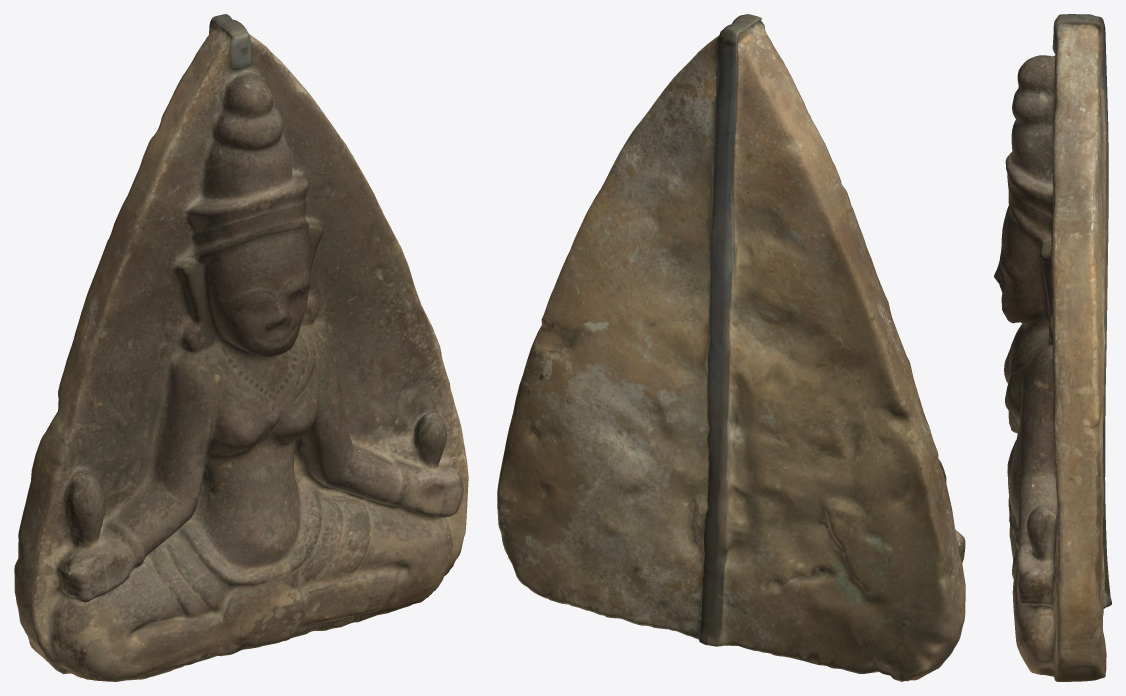
The model's file is 27_laskmi_final.glb.
3 views of the same model, side by side, from view 1: azimuth 30°, elevation 25°; view 2: azimuth 150°, elevation 25°; view 3: azimuth 270°, elevation 25° (orthographic). The views are drawn at different scales.
Size of the model in its own units: 0.4382 by 0.5803 by 0.1059.
Materials: 1 (1 with a texture image).
